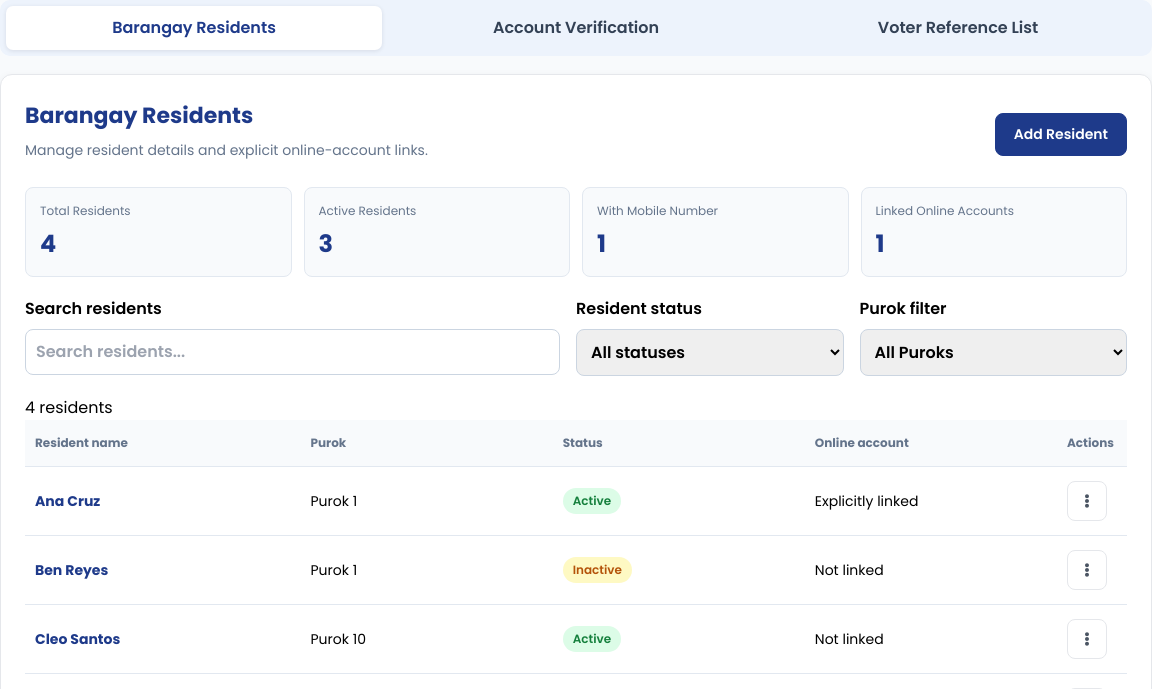
Test: summary uses full loaded data; normalized dynamic puroks filter both forms and reset
Expected: the button "Ana Cruz" is shown, [35, 486, 100, 516]
Select "Purok 1" in the dropdown labelled "Purok filter" at (993, 352), box [860, 329, 1127, 376]
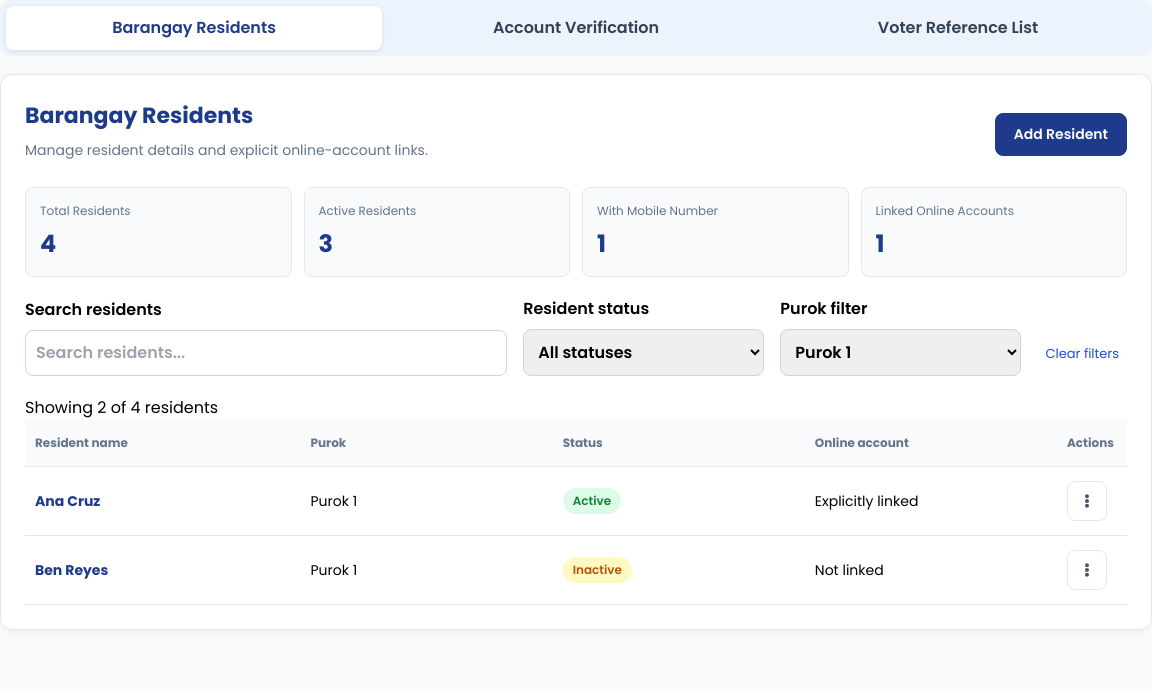
Expected: the button "Ana Cruz" is shown, [35, 486, 100, 516]
Now the button "Cleo Santos" is gone
Select "Active" in the dropdown labelled "Resident status" at (644, 352), box [523, 329, 764, 376]
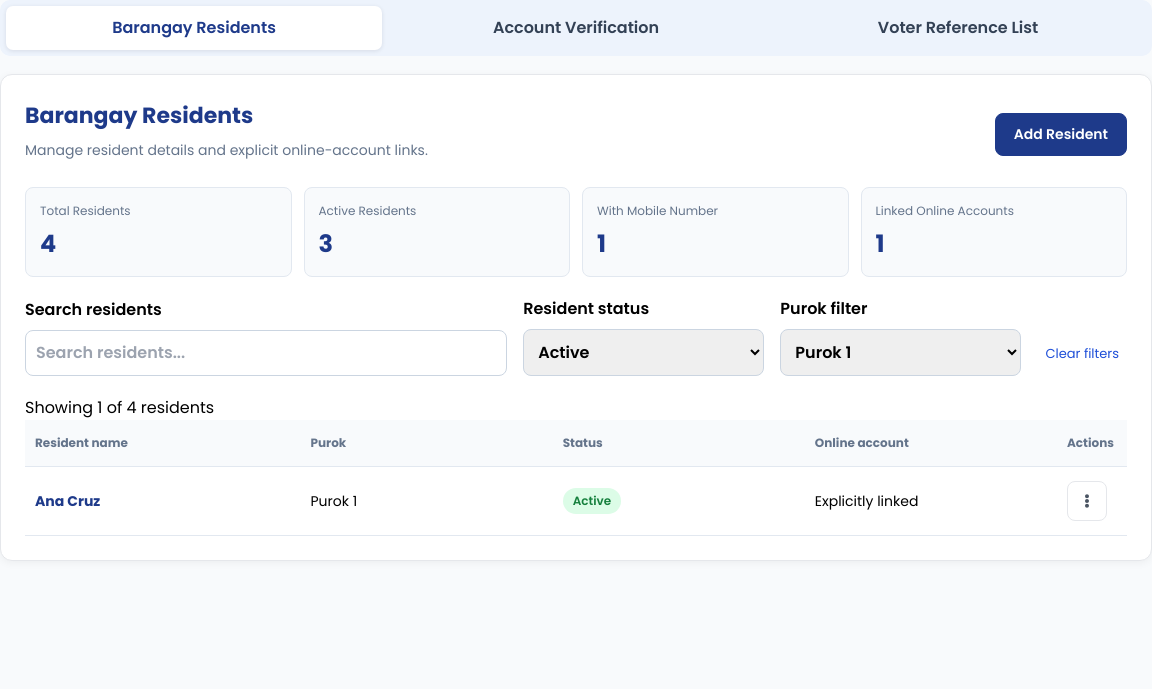
Now the button "Ben Reyes" is gone
Click the button "Clear filters".
click(1082, 354)  # box [1038, 332, 1127, 376]
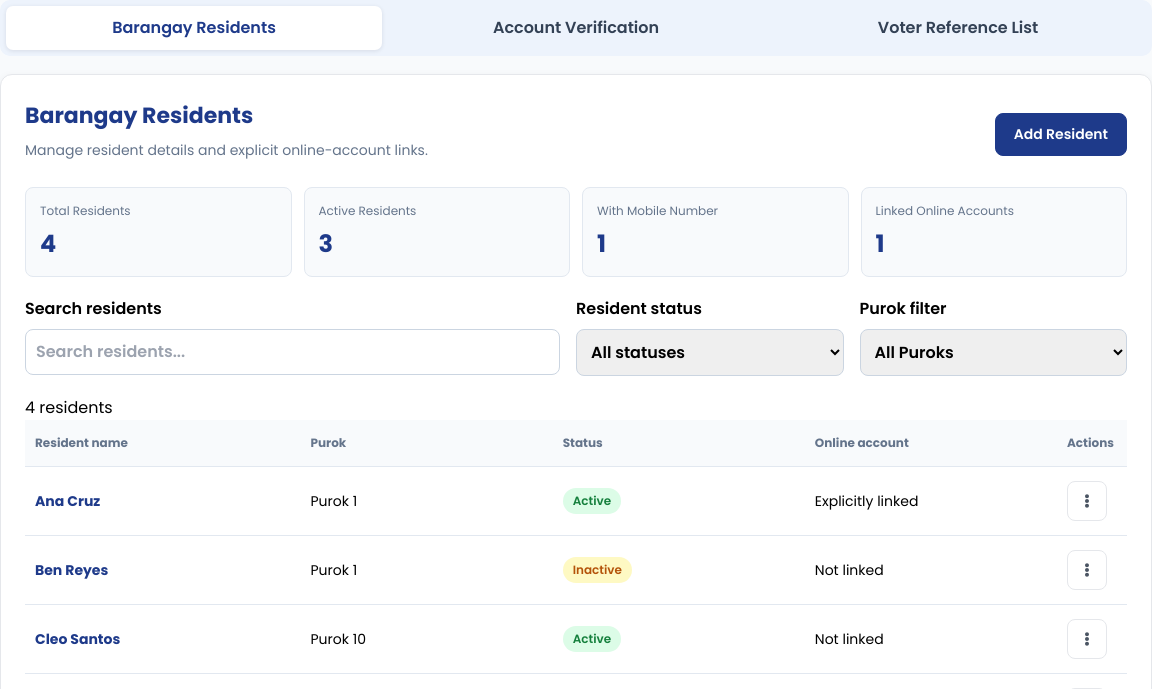
Now the button "Cleo Santos" is shown, box [35, 624, 120, 654]
